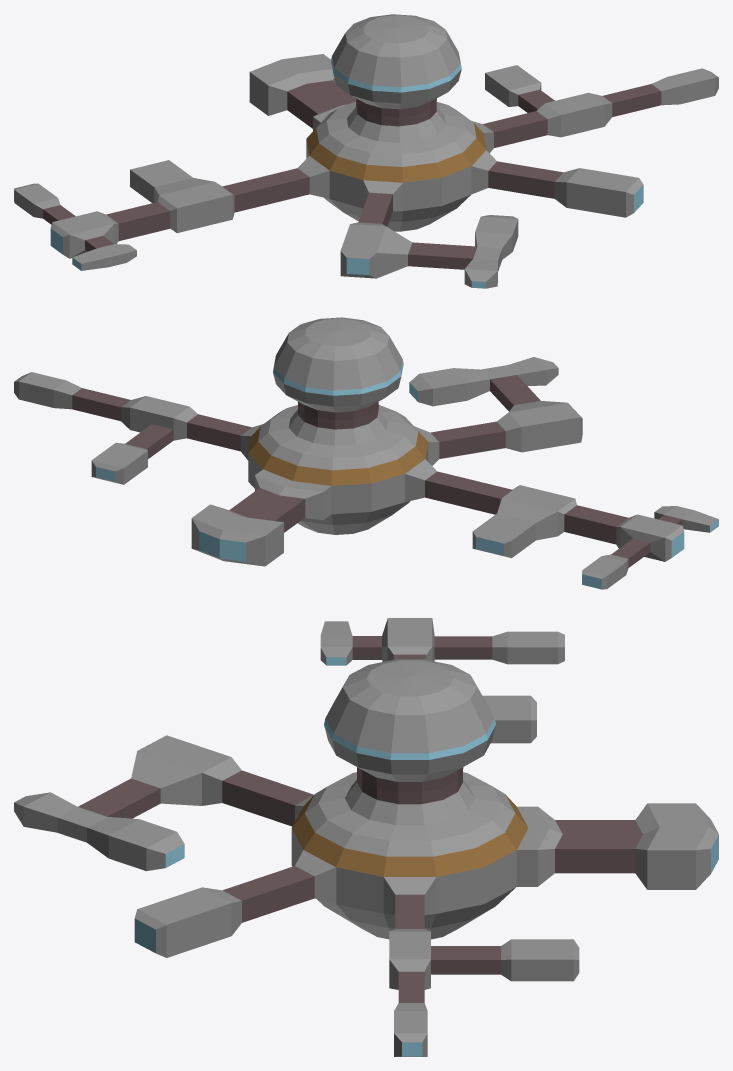
The model's file is star_base.fbx.
The picture shows the model from 3 angles, top to bottom: view 1: azimuth 30°, elevation 25°; view 2: azimuth 150°, elevation 25°; view 3: azimuth 270°, elevation 25°; orthographic projection. The views are drawn at different scales.
Visible parts, largest first — view 1: Sphere; view 2: Sphere; view 3: Sphere.
Boxes of the visible parts, x1=… form: Sphere: x1=14, y1=14, x2=718, y2=288; Sphere: x1=14, y1=317, x2=718, y2=589; Sphere: x1=14, y1=618, x2=718, y2=1056.
Size of the model in its own units: 825 by 231 by 580.
